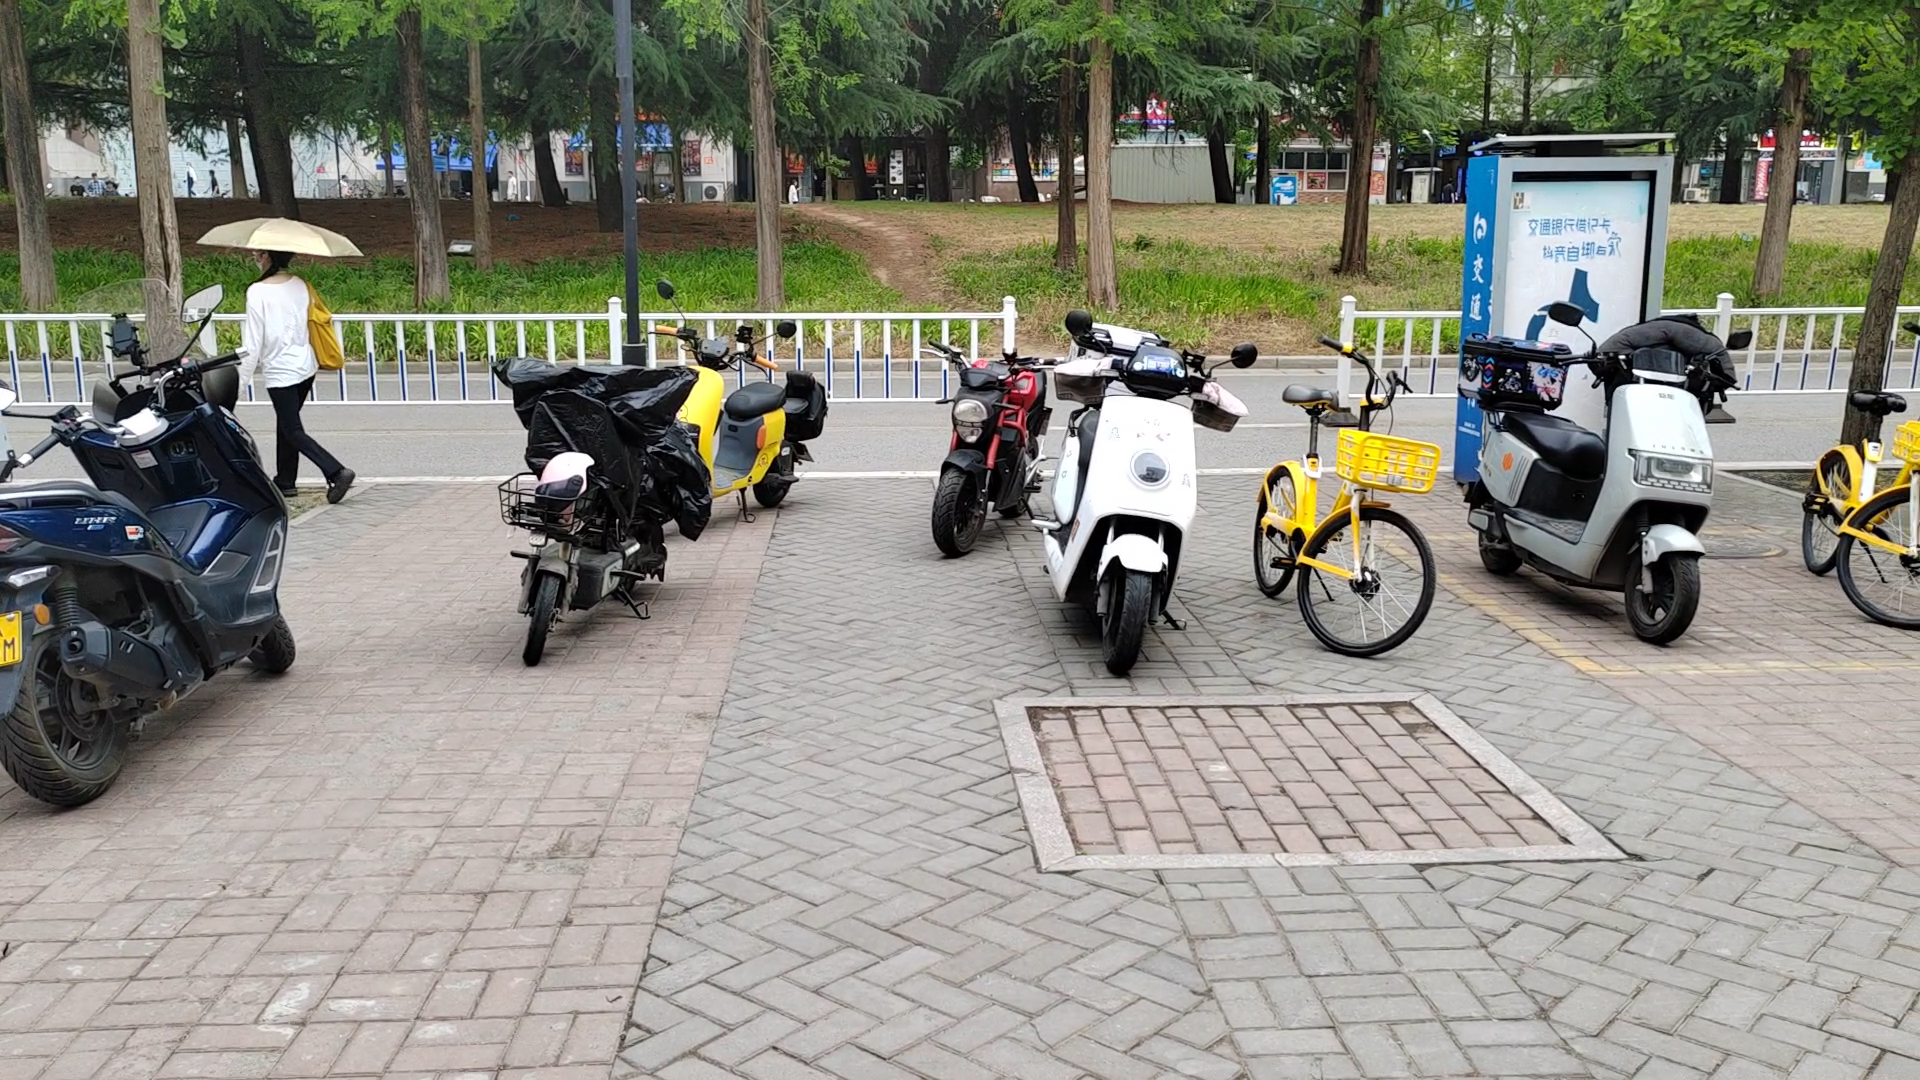others: (11, 322, 299, 824), (1455, 309, 1727, 644), (1027, 309, 1217, 673), (493, 352, 721, 647), (655, 287, 825, 531), (918, 320, 1062, 542)
shared_bike_meituan: (1280, 339, 1445, 669), (1785, 313, 1920, 662)
